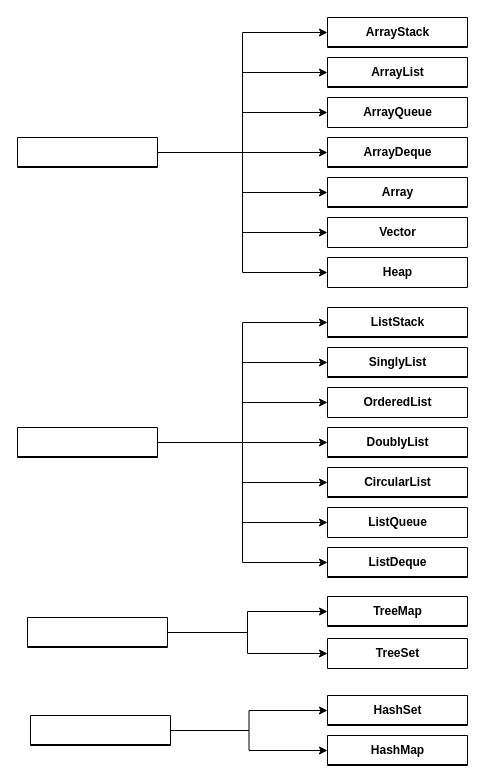
The diagram is 485 pixels wide and 783 high, and some of its shapes have lost their labels. The shapes that lost their labels are listed below. From the top down, each one's centre as x and y in pixels, then its label:
(x=87, y=152): ArrayBased
(x=87, y=442): ListBased
(x=97, y=632): TreeBased
(x=100, y=730): HashBased
